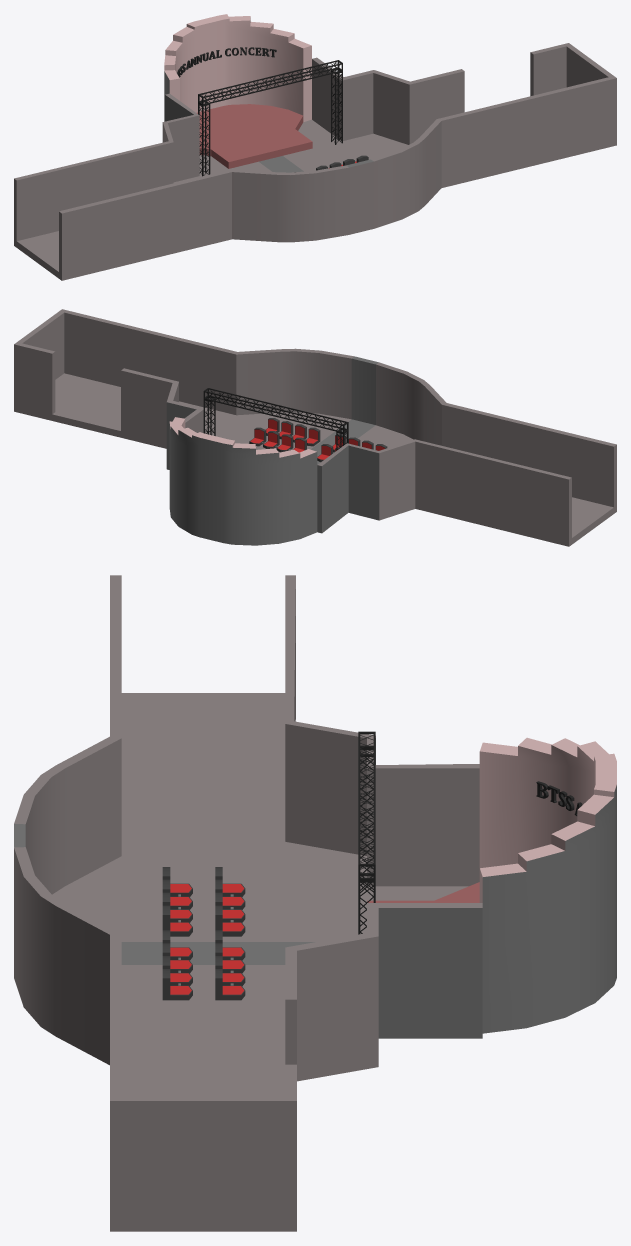
Rendered from Stage 2.fbx.
3 views of the same model, one above another, from view 1: azimuth 30°, elevation 25°; view 2: azimuth 150°, elevation 25°; view 3: azimuth 270°, elevation 25° (orthographic). The views are drawn at different scales.
Visible parts, largest first — view 1: Stage; view 2: Stage; view 3: Stage.
Part boxes in pixels (box(x1,y1,x2,y2)): Stage: box(14, 14, 616, 280); Stage: box(14, 309, 616, 546); Stage: box(14, 575, 616, 1231).
Bounding box in the file's own units: 4289 × 736 × 2079.
